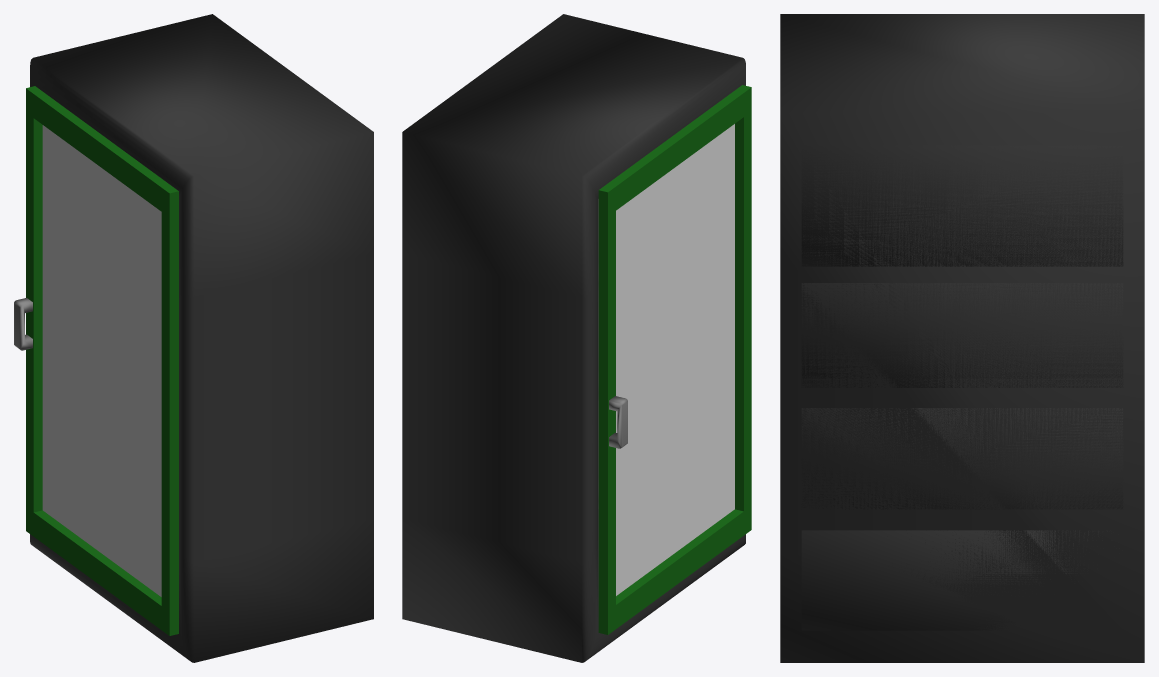
File: frigo01.fbx
3 views of the same model, side by side, from view 1: azimuth 30°, elevation 25°; view 2: azimuth 150°, elevation 25°; view 3: azimuth 270°, elevation 25° (orthographic). The views are drawn at different scales.
Visible parts, largest first — view 1: armoire, Porte, Poignée; view 2: armoire, Porte, Poignée; view 3: armoire.
Part boxes in pixels (x1=…): armoire: x1=30, y1=14, x2=373, y2=662; Porte: x1=26, y1=86, x2=178, y2=635; Poignée: x1=14, y1=298, x2=32, y2=350; armoire: x1=402, y1=14, x2=745, y2=662; Porte: x1=598, y1=85, x2=751, y2=634; Poignée: x1=609, y1=396, x2=627, y2=448; armoire: x1=780, y1=14, x2=1144, y2=662.
Size of the model in its own units: 449 by 1000 by 600.
